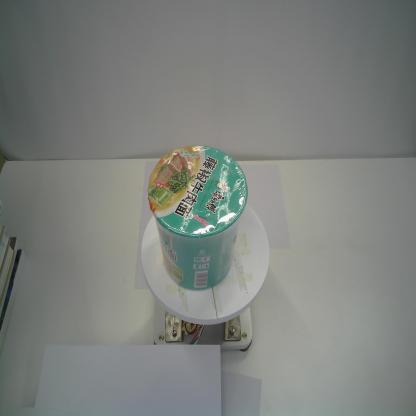Instant Noodles: (145, 143, 250, 294)
